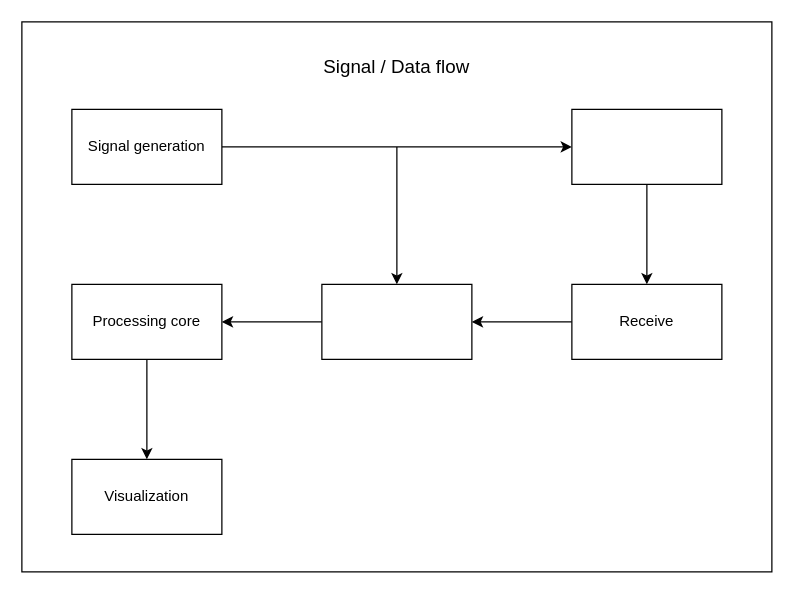
The diagram is 794 pixels wide and 594 high, and some of its shapes have lost their labels. The centre of each missing label's shape, as x and y in pixels:
Receiver front end: the point at 396,321
Transmit: the point at 646,146
